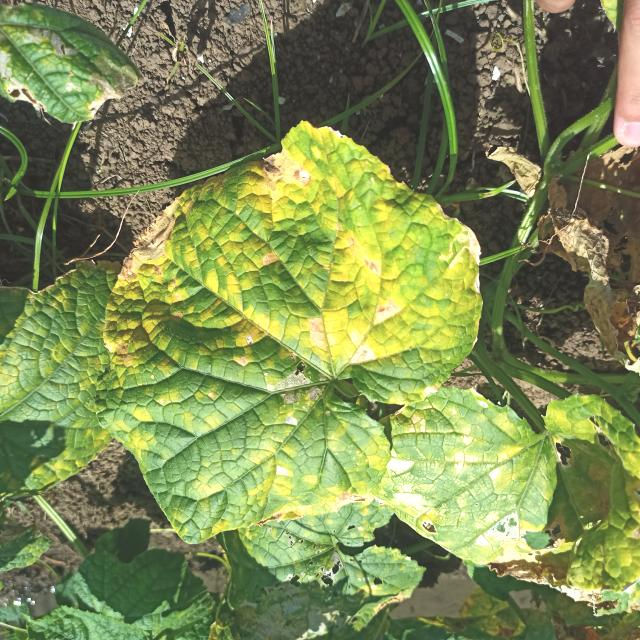disease_cucumber: (115, 129, 478, 540), (368, 386, 552, 561)
